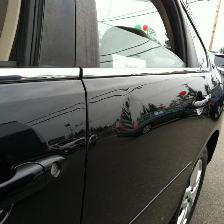dent: (120, 94, 146, 128)
